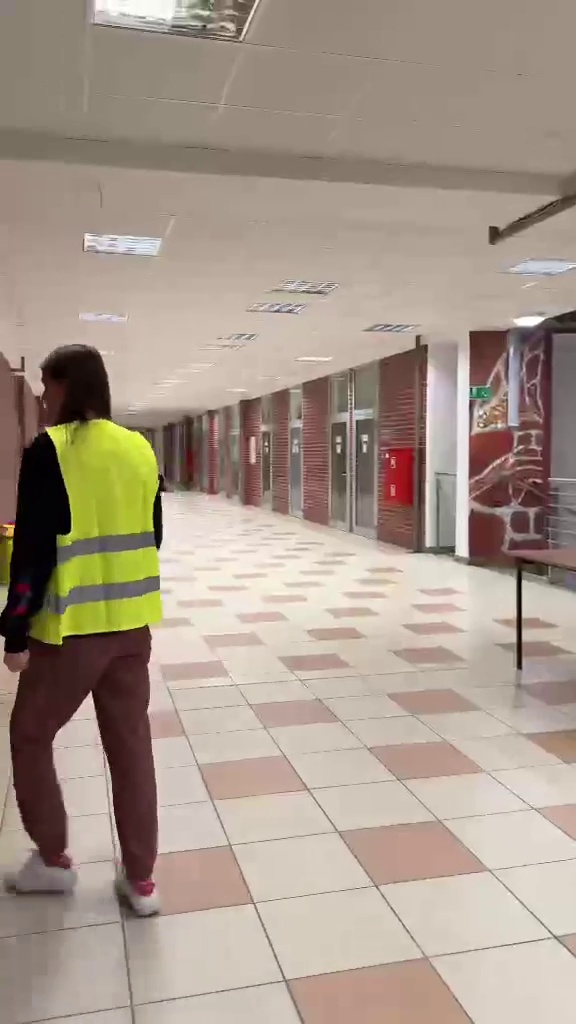vest: (10, 344, 169, 913)
